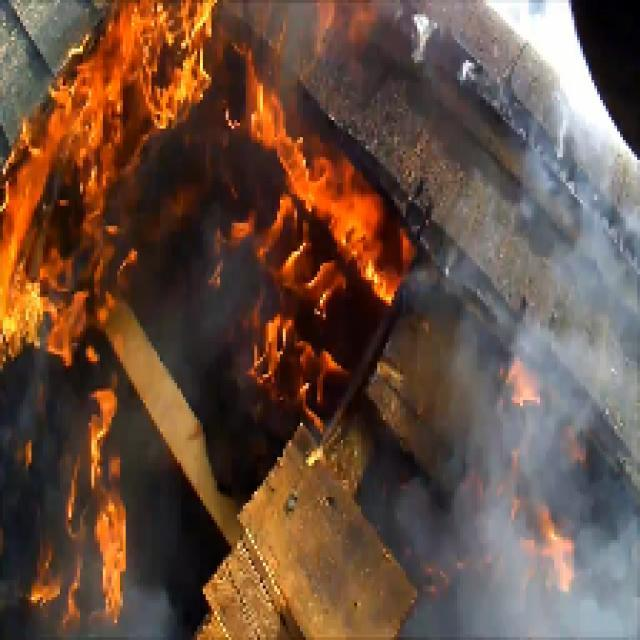Fire: (0, 0, 217, 357), (239, 90, 402, 407), (24, 396, 141, 624)
Smoke: (428, 460, 640, 640)
